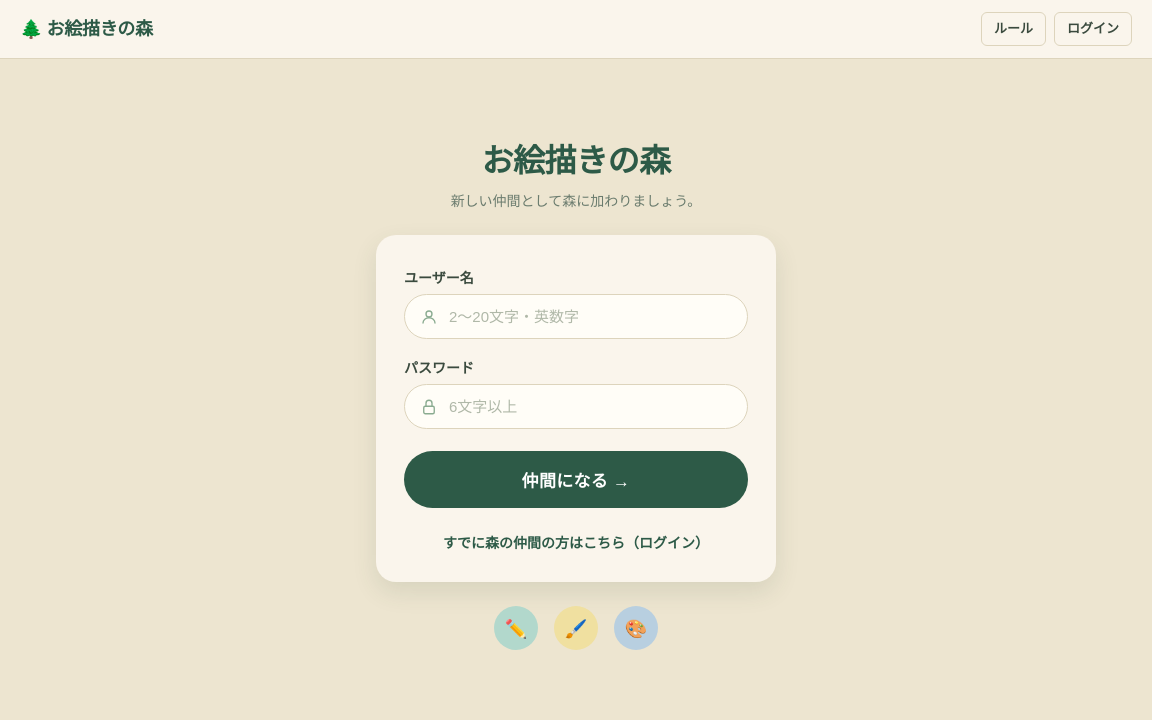
Test: Register ページ › username に不正文字が含まれるとエラーが表示される
The image size is (1152, 720).
Type "user name!" into the field labelled "ユーザー名" at point(576, 317), box [404, 294, 748, 339]
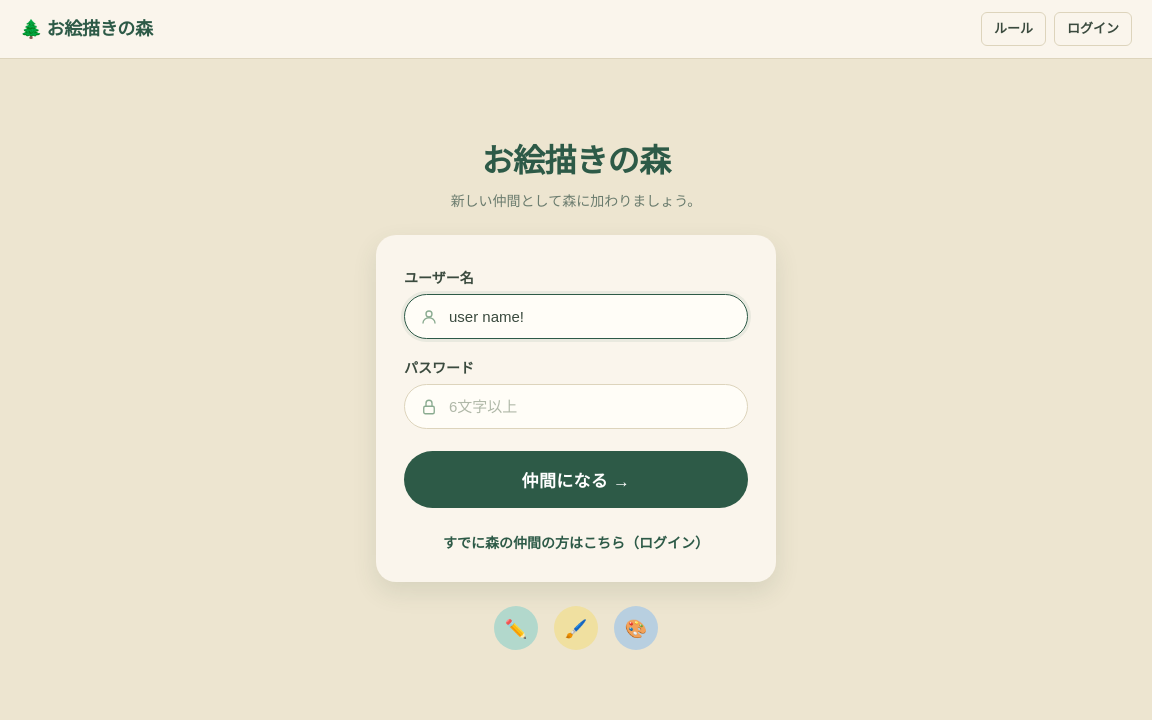
Type "pass123" into the password field labelled "パスワード" at point(576, 407), box [404, 384, 748, 429]
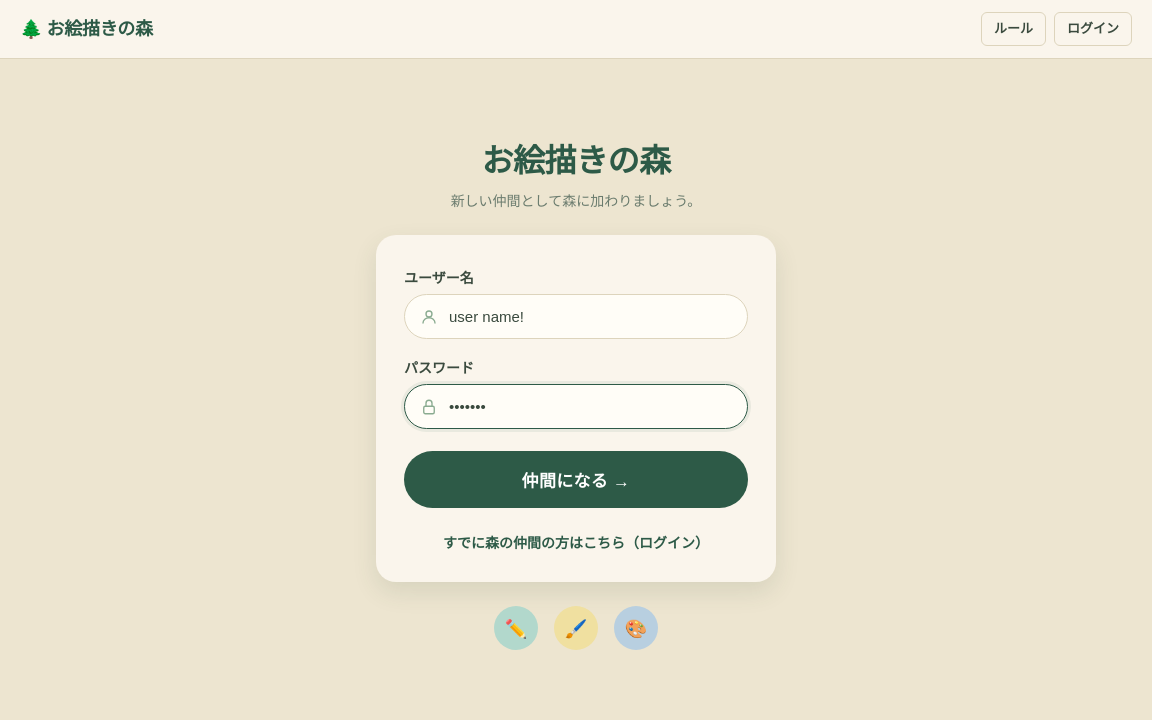
Click the button "仲間になる →" at point(576, 480), box [404, 451, 748, 508]
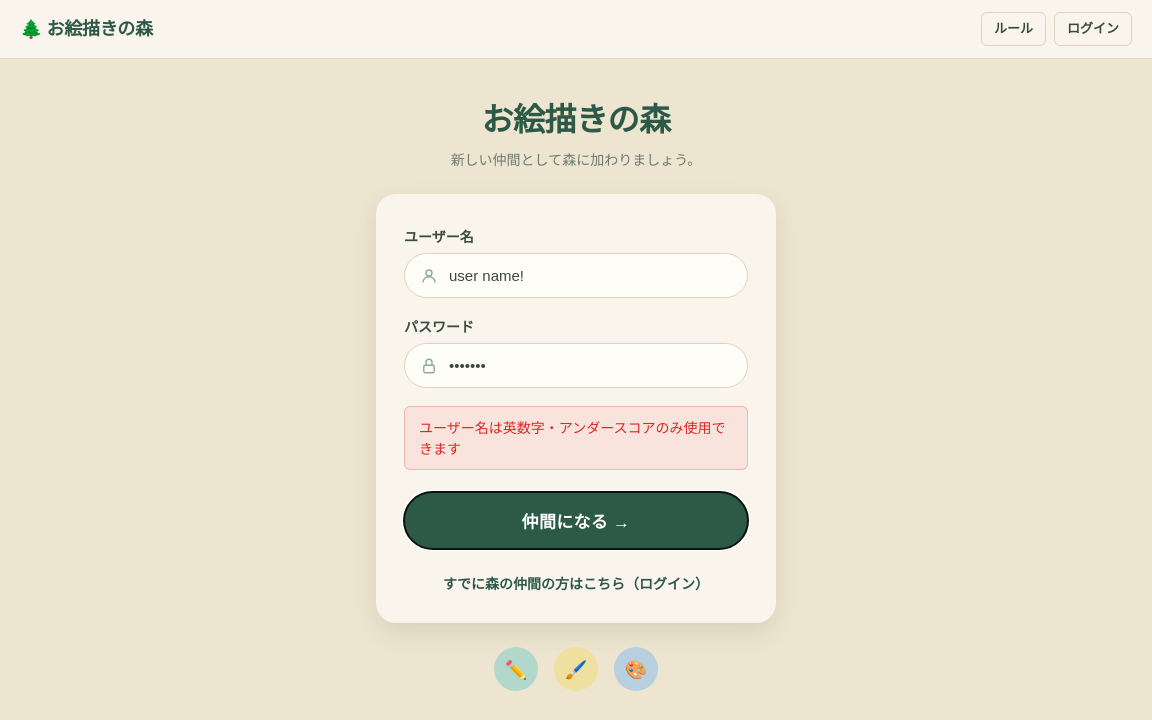
Check: the message shows "英数字・アンダースコアのみ", box [419, 418, 726, 458]
